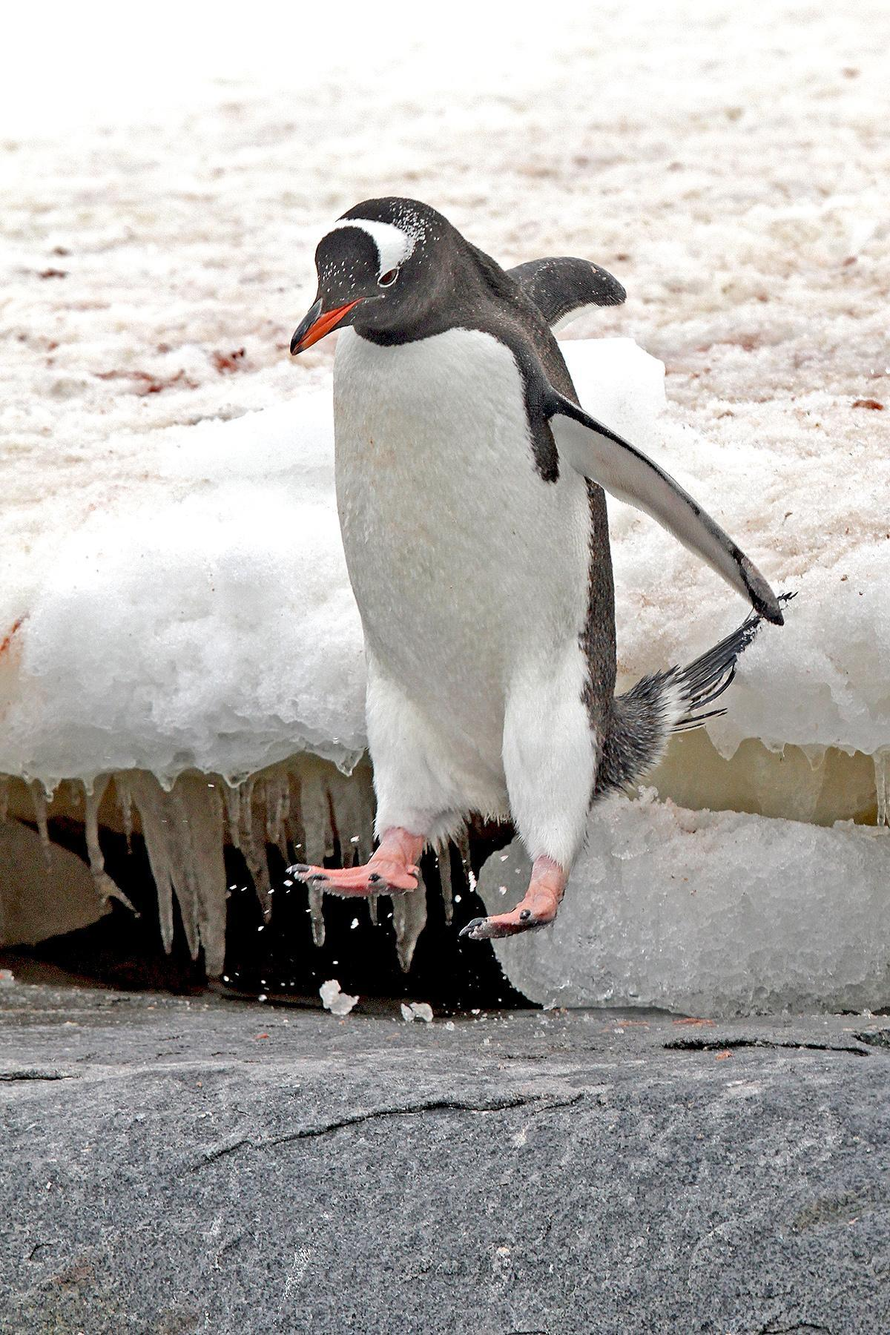Penguin: (292, 198, 797, 938)
